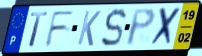F: (44, 9, 77, 49)
K: (75, 9, 102, 48)
P: (125, 7, 157, 48)
S: (100, 7, 128, 49)
T: (27, 11, 50, 48)
X: (148, 5, 183, 48)
